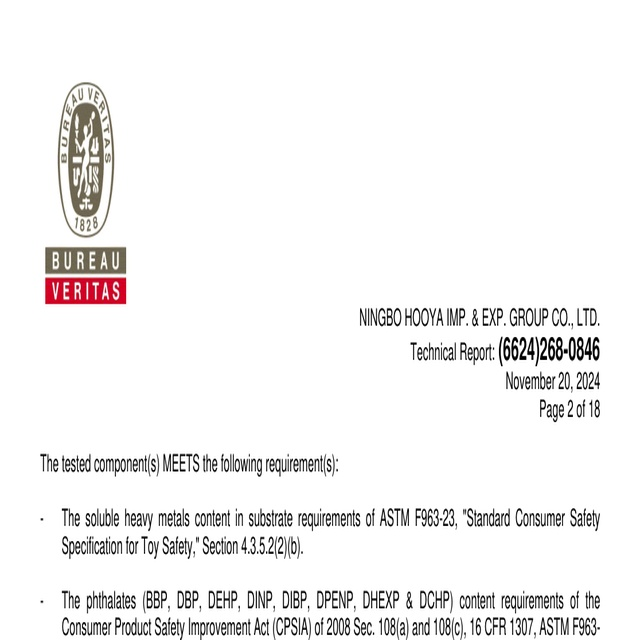bureau_veritas: (41, 78, 131, 306)
